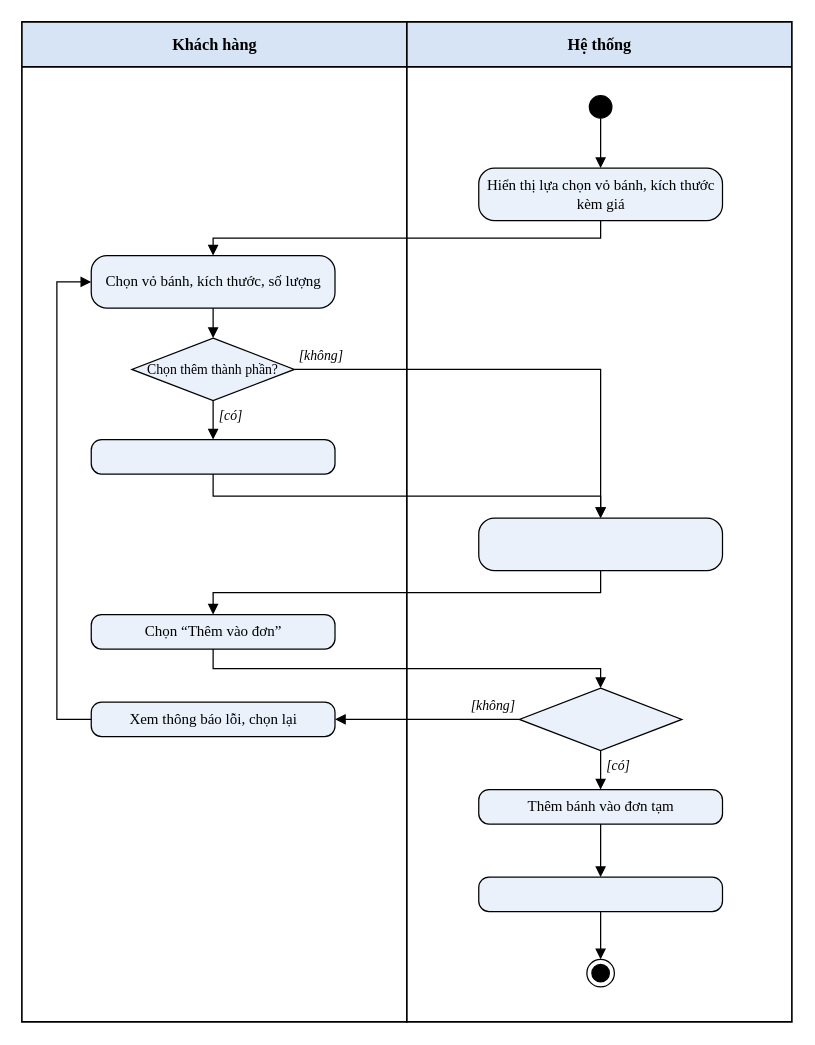
The diagram is 815 pixels wide and 1045 high, and some of its shapes have lost their labels. Here are the shapes that lost their labels. From the top down, the box of each, then its label:
(90, 438, 335, 474): Chọn thành phần bổ sung
(478, 517, 722, 571): Tính lại giá, hiển thị giá tạm tính
(518, 687, 682, 751): Đủ thông tin, SL hợp lệ?
(478, 876, 722, 912): Thông báo thêm thành công
